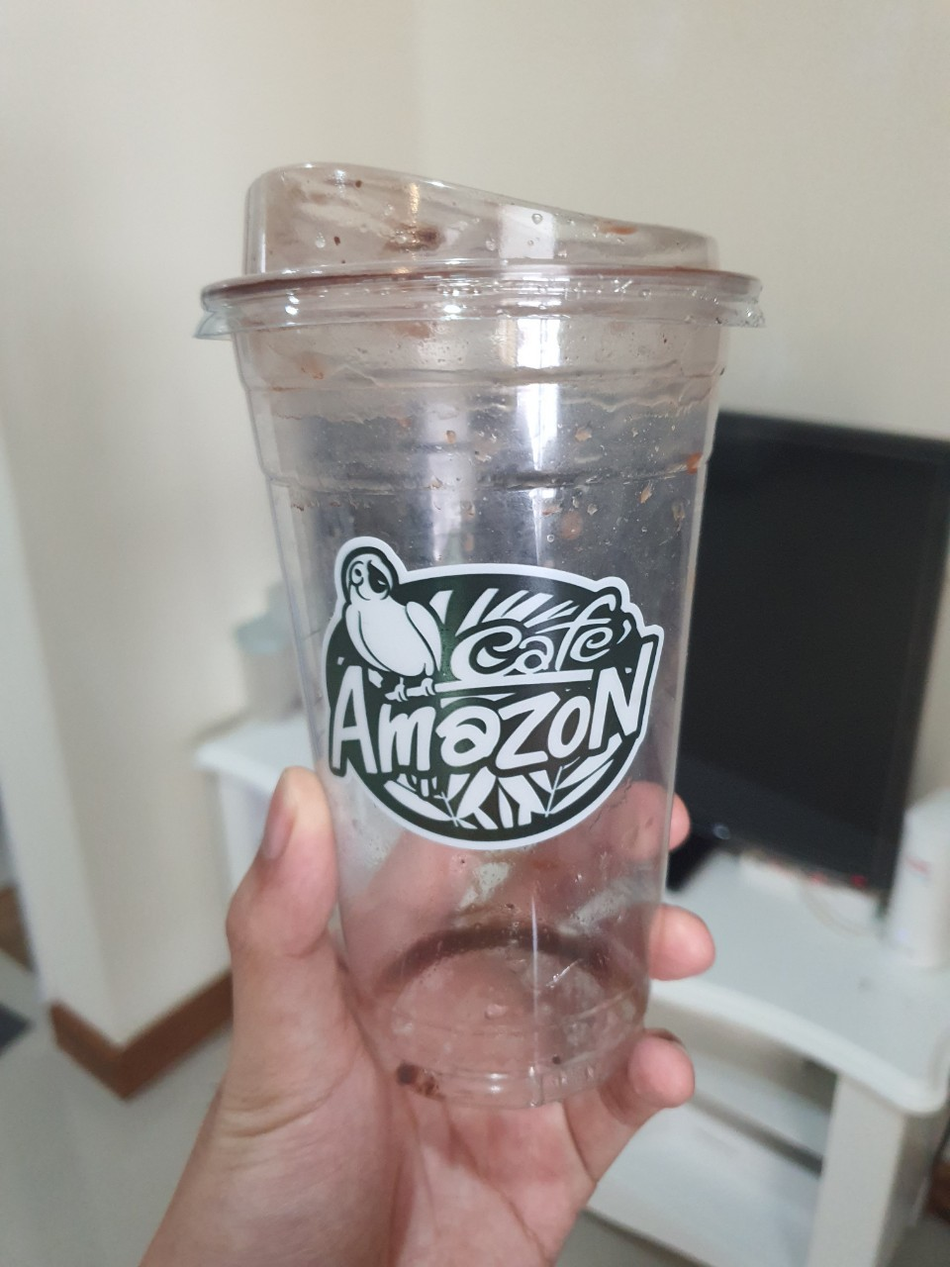plastic: (150, 141, 771, 1131)
